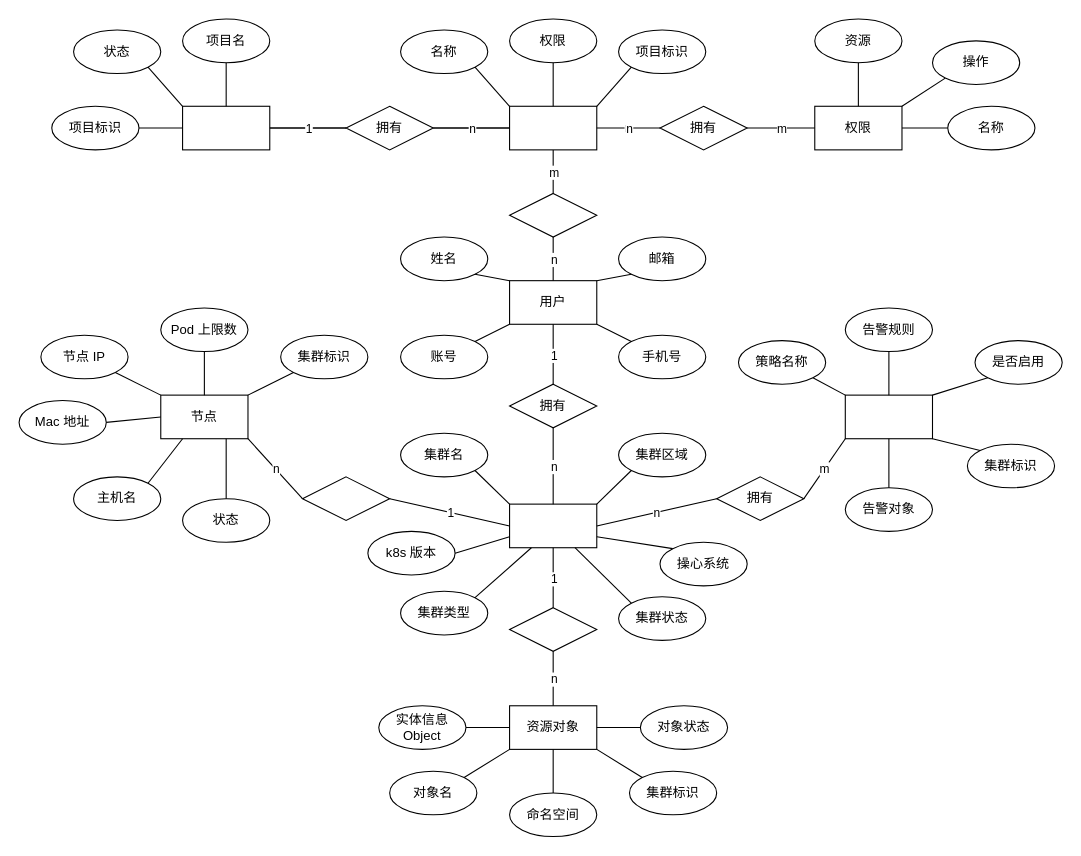
Image size: 1081x856. Some labels were removed from this diagram. Each missing label, with the centre of its shape:
创建: the point at 552,629
告警策略: the point at 888,416
属于: the point at 552,214
管理: the point at 345,498
角色: the point at 552,127
集群: the point at 552,525
项目: the point at 225,127
